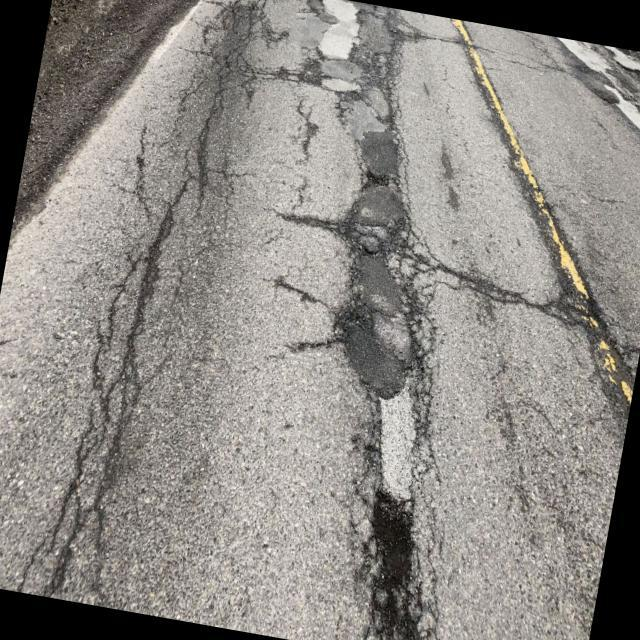Pothole: (53, 168, 185, 608), (295, 124, 481, 434), (326, 480, 493, 640), (509, 209, 640, 402), (190, 0, 294, 113), (358, 22, 445, 126), (178, 101, 238, 217)
